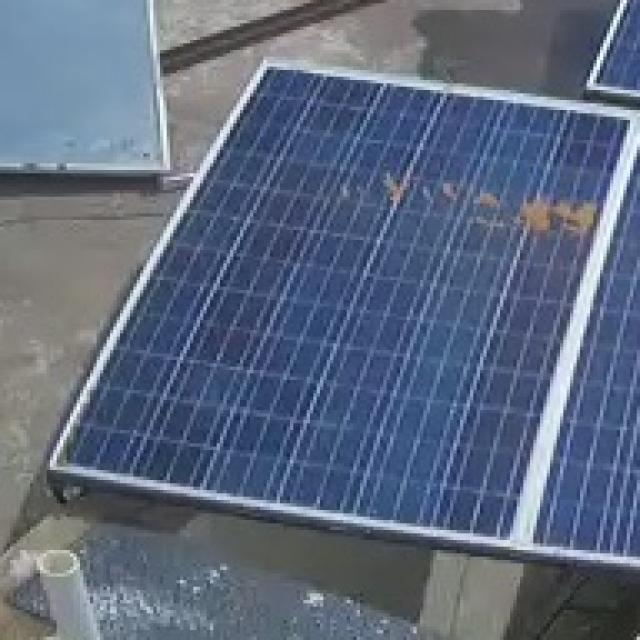Dusty: (358, 175, 600, 235)
